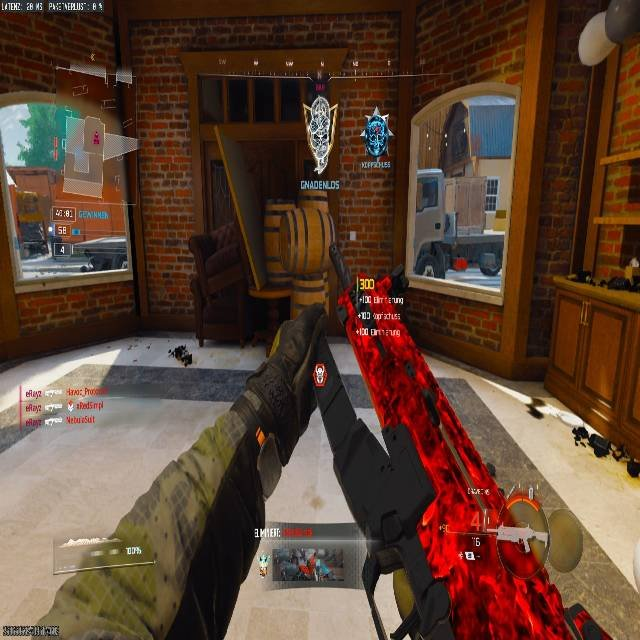player: (360, 107, 391, 164)
